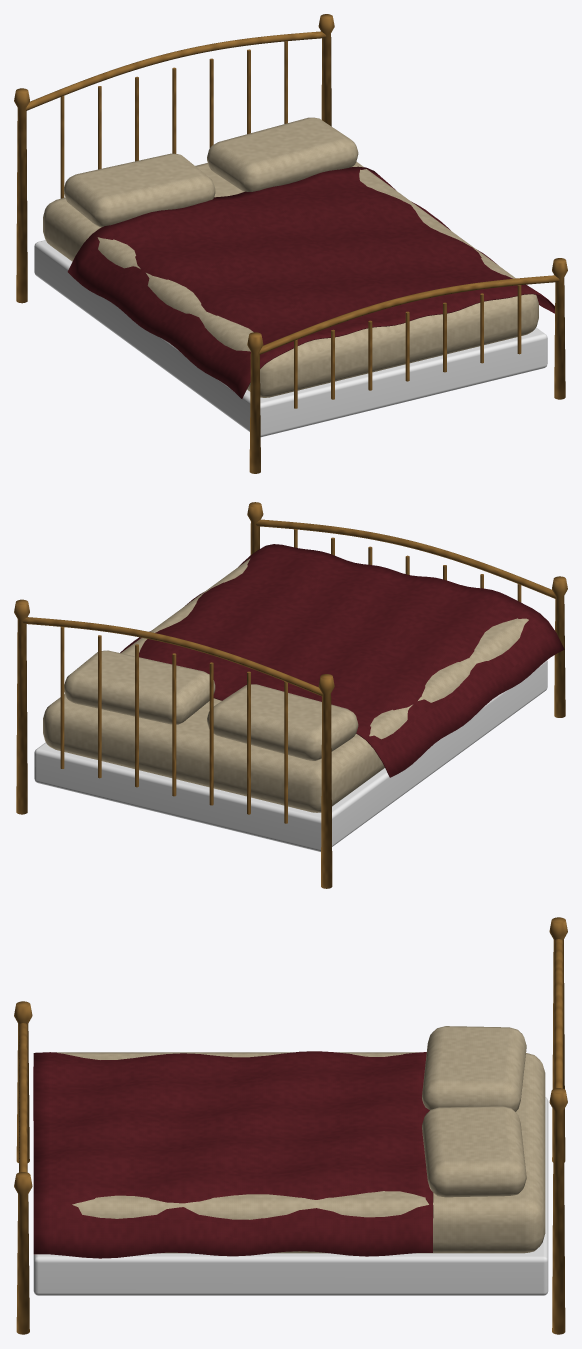
Rendered from BrassBed.fbx.
3 views of the same model, one above another, from view 1: azimuth 30°, elevation 25°; view 2: azimuth 150°, elevation 25°; view 3: azimuth 270°, elevation 25° (orthographic). The views are drawn at different scales.
Visible parts, largest first — view 1: BrassBed_BurgundyFabric, BrassBed_Linen, BrassBed_Walnut, BrassBed_Brass; view 2: BrassBed_BurgundyFabric, BrassBed_Linen, BrassBed_Walnut, BrassBed_Brass; view 3: BrassBed_BurgundyFabric, BrassBed_Linen, BrassBed_Walnut, BrassBed_Brass.
Boxes of the visible parts, x1,y1,x2,y2 form: BrassBed_BurgundyFabric: (67,166,554,398); BrassBed_Linen: (43,117,538,397); BrassBed_Walnut: (34,240,547,437); BrassBed_Brass: (14,14,567,473); BrassBed_BurgundyFabric: (120,544,564,777); BrassBed_Linen: (43,558,528,812); BrassBed_Walnut: (34,660,547,851); BrassBed_Brass: (14,502,567,888); BrassBed_BurgundyFabric: (33,1051,433,1258); BrassBed_Linen: (57,1026,545,1253); BrassBed_Walnut: (33,1097,548,1295); BrassBed_Brass: (14,917,567,1334).
Bounding box in the file's own units: 208 × 130 × 269.
